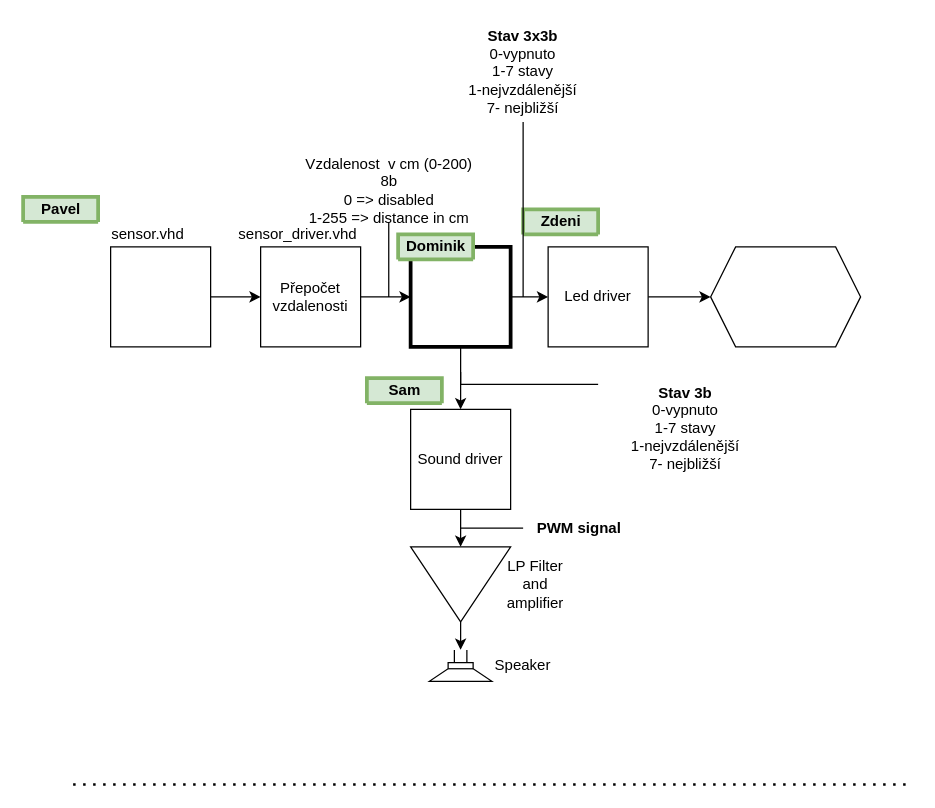
Image size: 935x808. Some labels were removed from this diagram. The shapes that lost their labels are listed below. From the top down, each one's box as (x1, y1, x2, y2) in pixels, then its label:
(109, 246, 211, 347): Distance sensor
(408, 244, 512, 348): Řídící logika
(709, 246, 861, 347): 3xRGB LEDS
